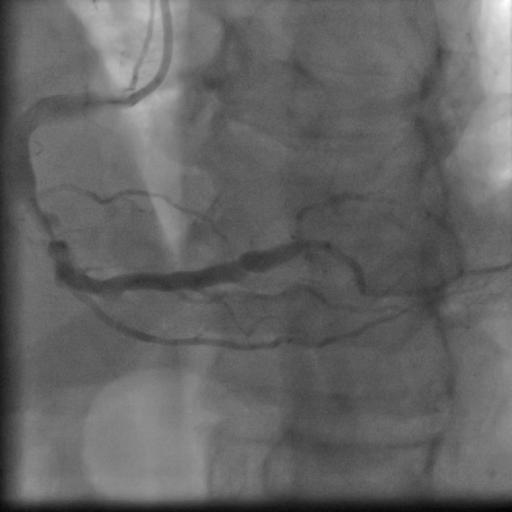Stenosis: (27, 202, 65, 253)
